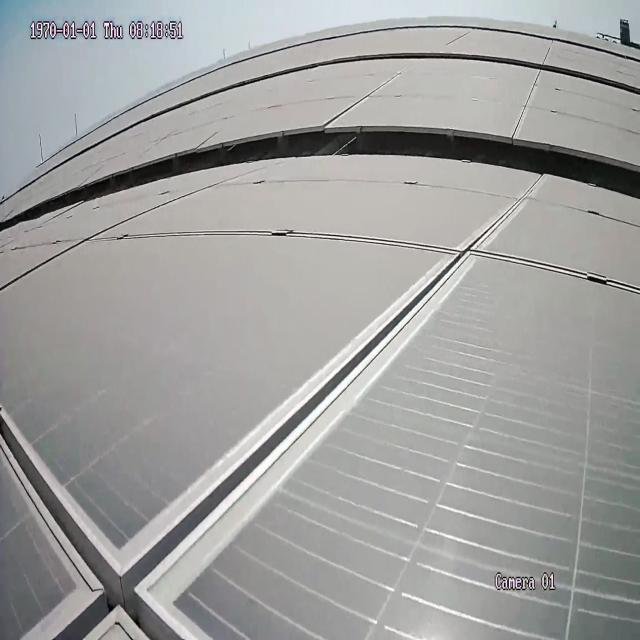interior panel: (1, 183, 545, 637)
outher panel: (1, 123, 640, 230)
